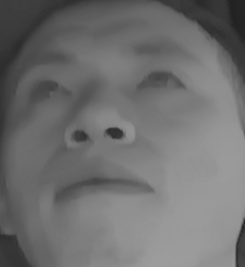eye: (133, 59, 186, 99), (24, 74, 73, 105)
mouth: (54, 160, 154, 214)
